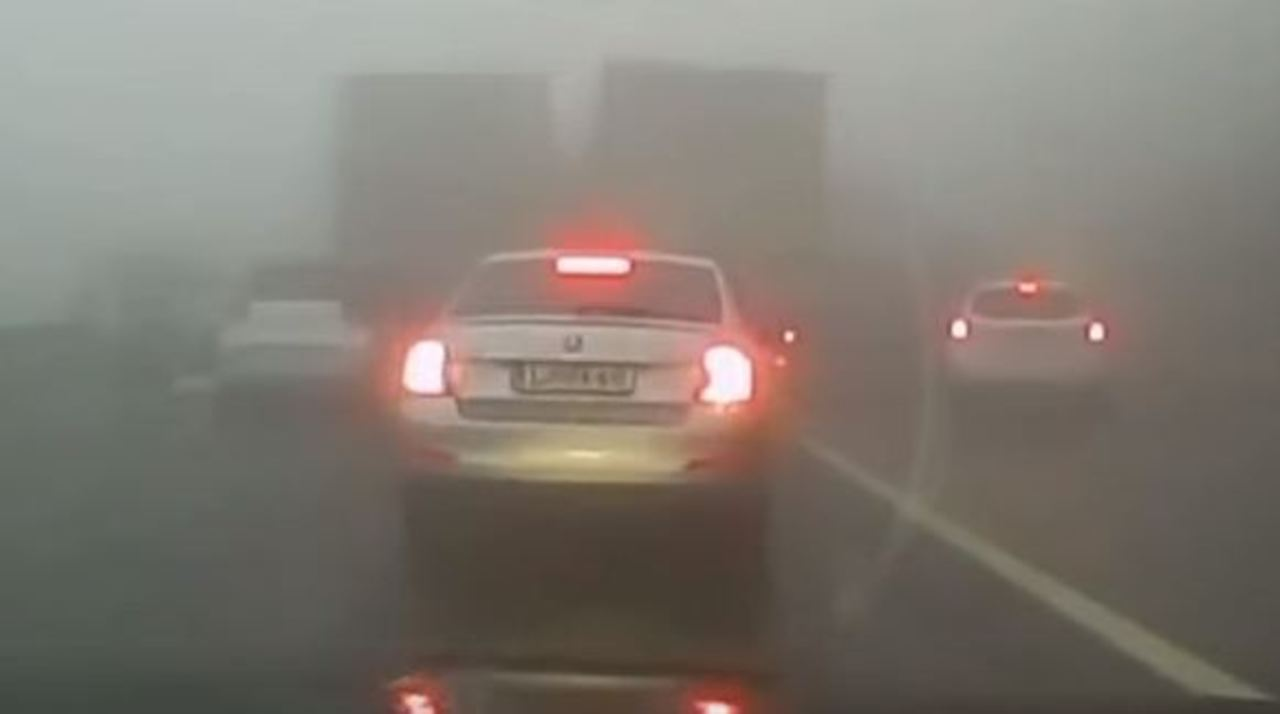car: (391, 243, 803, 484), (943, 269, 1119, 420), (215, 254, 376, 391)
truck: (585, 52, 831, 388), (331, 68, 568, 321)
